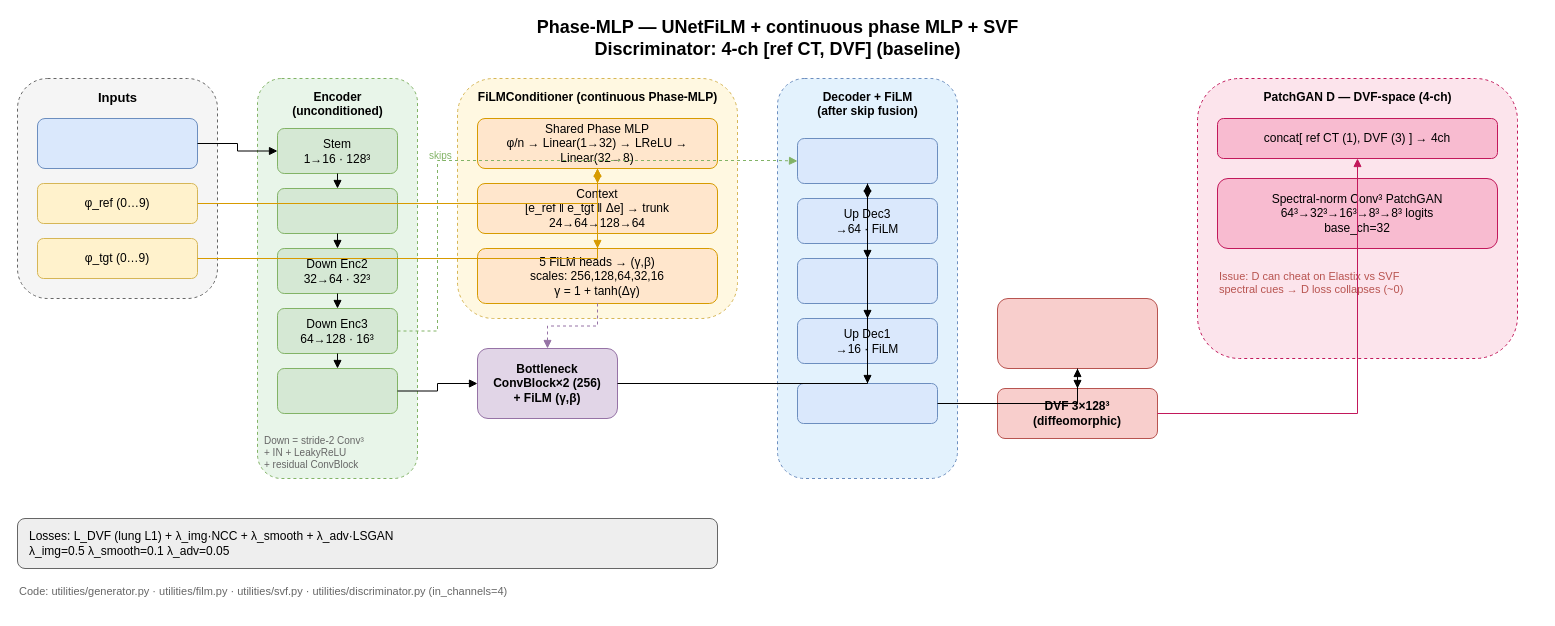
Image size: 1555x626. Some labels were removed from this diagram. The shapes that lost their labels are listed below. From the top down, each one's box as (x1, y1, x2, y2) in pixels, then its label:
(36, 118, 198, 168): Reference CT 1×128³
(796, 138, 938, 184): Up Dec4 →128 · FiLM
(276, 188, 398, 234): Down Enc1 16→32 · 64³
(796, 258, 938, 304): Up Dec2 →32 · FiLM
(996, 298, 1158, 368): Scaling-and-Squaring v → DVF int_steps = 6
(276, 368, 398, 414): Down Enc4 128→256 · 8³
(796, 382, 938, 424): 1×1 Conv → v (3ch)
